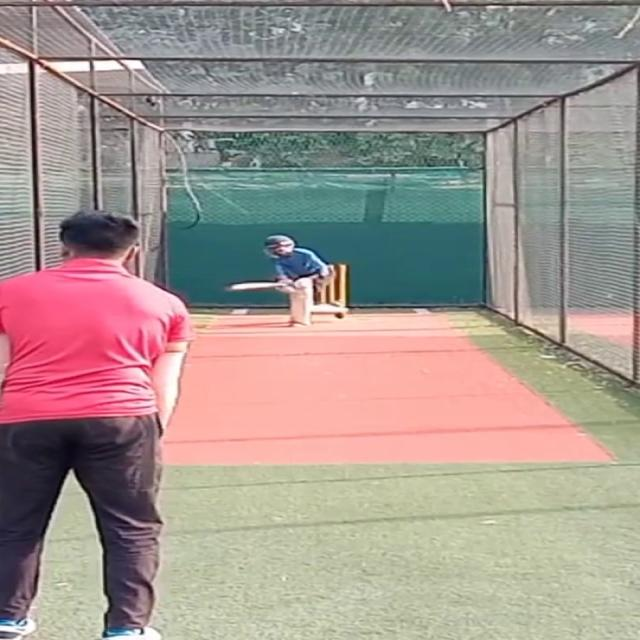stump: (324, 262, 350, 310)
